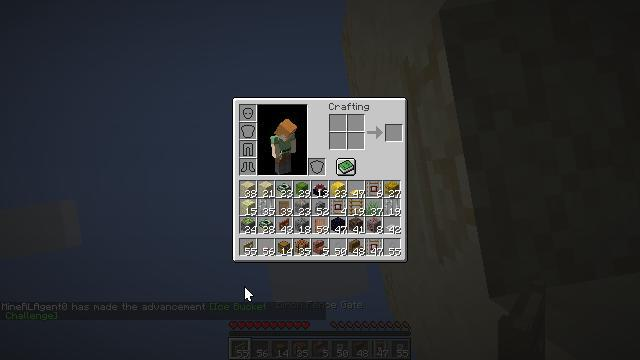cursor: (286, 244, 302, 254)
